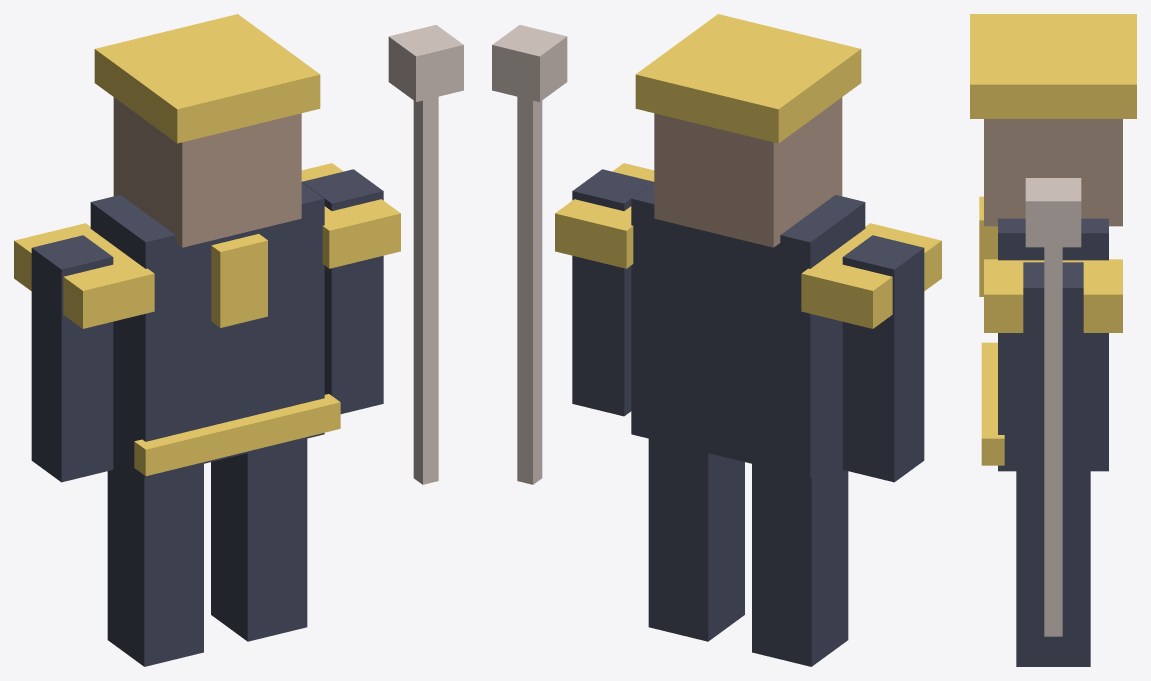
File: 08_ren_trenchmark_smith_of_bulk.glb
The picture shows the model from 3 angles, left to right: view 1: azimuth 30°, elevation 25°; view 2: azimuth 150°, elevation 25°; view 3: azimuth 270°, elevation 25°; orthographic projection.
Visible parts, largest first — view 1: Ren Trenchmark, Smith of Bulk; view 2: Ren Trenchmark, Smith of Bulk; view 3: Ren Trenchmark, Smith of Bulk.
Boxes of the visible parts, left/top/right/bottom form: Ren Trenchmark, Smith of Bulk: left=14, top=14, right=463, bottom=666; Ren Trenchmark, Smith of Bulk: left=492, top=14, right=941, bottom=666; Ren Trenchmark, Smith of Bulk: left=970, top=14, right=1136, bottom=666.
Bounding box in the file's own units: 1.04 × 1.41 × 0.3694.
